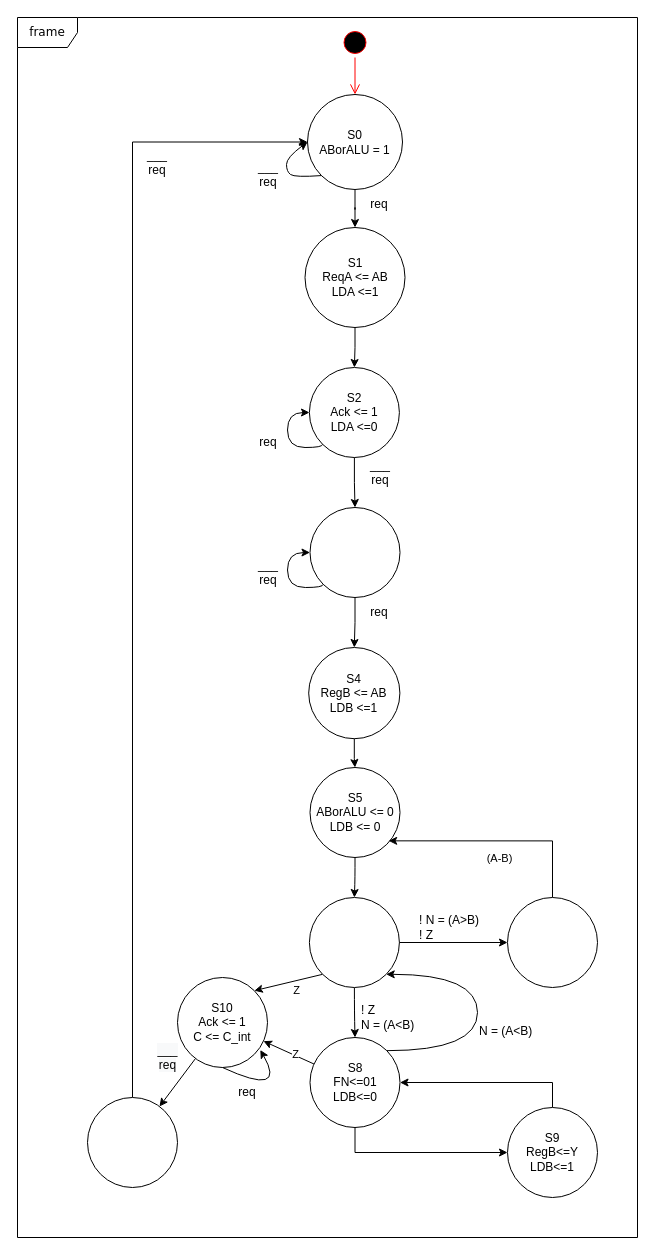
This 655x1255 diagram has some shape labels left out. Each missing label, with the centre of its shape:
"S11 Ack<=0" goes at point 132,1142.
"S3 Ack <= 0" goes at point 354,552.
"S6 FN<=00" goes at point 353,942.
"S7 RegA<=Y LDA <=1" goes at point 552,942.
